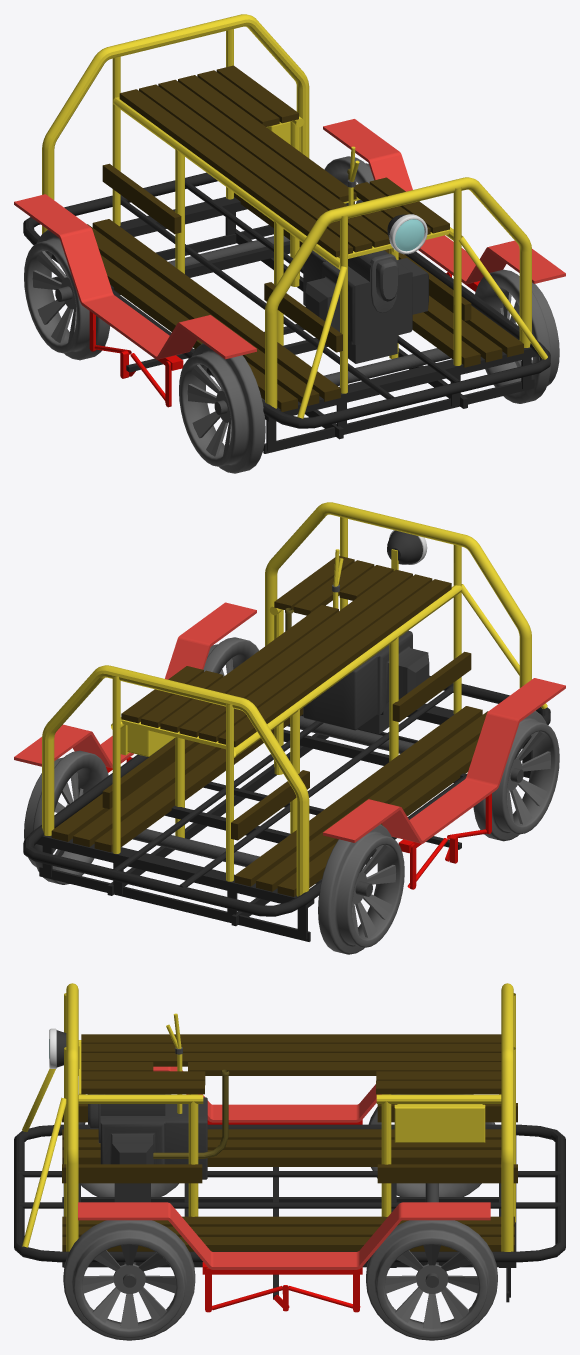
The model's file is DrezinaUV.fbx.
The picture shows the model from 3 angles, top to bottom: view 1: azimuth 30°, elevation 25°; view 2: azimuth 150°, elevation 25°; view 3: azimuth 270°, elevation 25°; orthographic projection. The views are drawn at different scales.
Visible parts, largest first — view 1: Cube.004, Cylinder.005, Cube.002, Cube, Cube.012, Plane, Plane.008, Plane.017, Cube.013, Plane.020, Cube.003, Plane.005 (+21 smaller); view 2: Cube.004, Cylinder.005, Cube.002, Cube, Plane.017, Plane, Cube.012, Plane.008, Cube.013, Plane.020, Cube.009, Cube.001 (+22 smaller); view 3: Cylinder.005, Cube.004, Cube.002, Cube, Plane, Cube.012, Plane.020, Plane.034, Plane.017, Plane.008, Cube.016, Cube.001 (+17 smaller).
Boxes of the visible parts, x1=… form: Cube.004: x1=119, y1=65, x2=449, y2=257; Cylinder.005: x1=24, y1=156, x2=559, y2=473; Cube.002: x1=14, y1=119, x2=565, y2=359; Cube: x1=87, y1=219, x2=340, y2=411; Cube.012: x1=303, y1=250, x2=428, y2=363; Plane: x1=23, y1=172, x2=550, y2=428; Plane.008: x1=265, y1=177, x2=531, y2=408; Plane.017: x1=42, y1=14, x2=309, y2=233; Cube.013: x1=51, y1=212, x2=534, y2=453; Plane.020: x1=120, y1=179, x2=460, y2=398; Cube.003: x1=264, y1=347, x2=537, y2=421; Plane.005: x1=113, y1=97, x2=340, y2=269; Cube.004: x1=121, y1=556, x2=451, y2=747; Cylinder.005: x1=24, y1=637, x2=559, y2=954; Cube.002: x1=14, y1=602, x2=565, y2=843; Cube: x1=234, y1=706, x2=487, y2=896; Plane.017: x1=42, y1=665, x2=309, y2=896; Plane: x1=23, y1=675, x2=550, y2=916; Cube.012: x1=303, y1=630, x2=429, y2=734; Plane.008: x1=265, y1=502, x2=531, y2=687; Cube.013: x1=39, y1=714, x2=532, y2=941; Plane.020: x1=113, y1=685, x2=453, y2=887; Cube.009: x1=36, y1=835, x2=314, y2=909; Cube.001: x1=94, y1=708, x2=303, y2=852; Cylinder.005: x1=63, y1=1094, x2=497, y2=1340; Cube.004: x1=81, y1=1034, x2=501, y2=1094; Cube.002: x1=78, y1=1066, x2=490, y2=1269; Cube: x1=62, y1=1129, x2=501, y2=1166; Plane: x1=14, y1=1124, x2=565, y2=1262; Cube.012: x1=100, y1=1094, x2=207, y2=1202; Plane.020: x1=18, y1=1171, x2=561, y2=1208; Plane.034: x1=394, y1=1104, x2=485, y2=1142; Plane.017: x1=501, y1=983, x2=513, y2=1251; Plane.008: x1=66, y1=983, x2=78, y2=1251; Cube.016: x1=62, y1=1237, x2=514, y2=1251; Cube.001: x1=62, y1=1216, x2=514, y2=1226.
Bounding box in the file's own units: 12.29 × 9.18 × 17.67.
